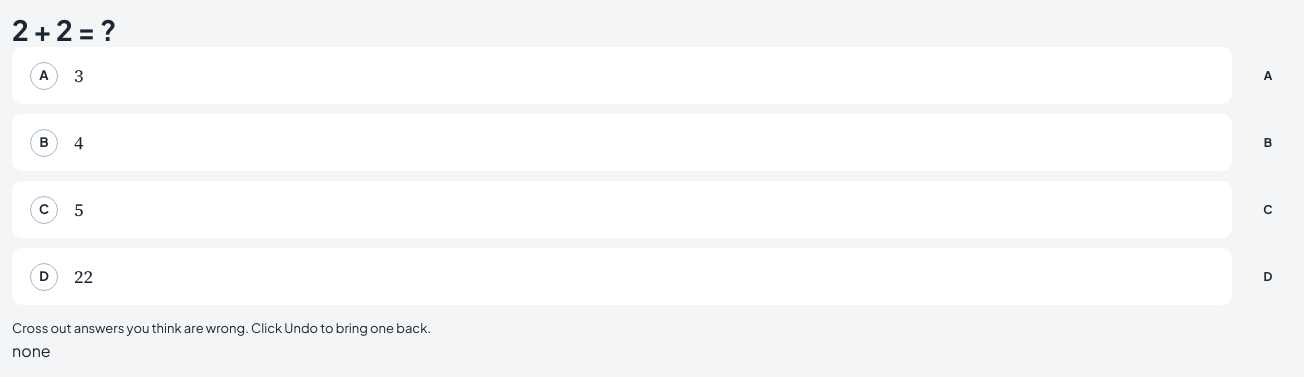
Test: cross out on multiple choice › crosses out and brings back an option without choosing it
Click the button named "Cross out A": (1268, 76) [1244, 58, 1292, 94]
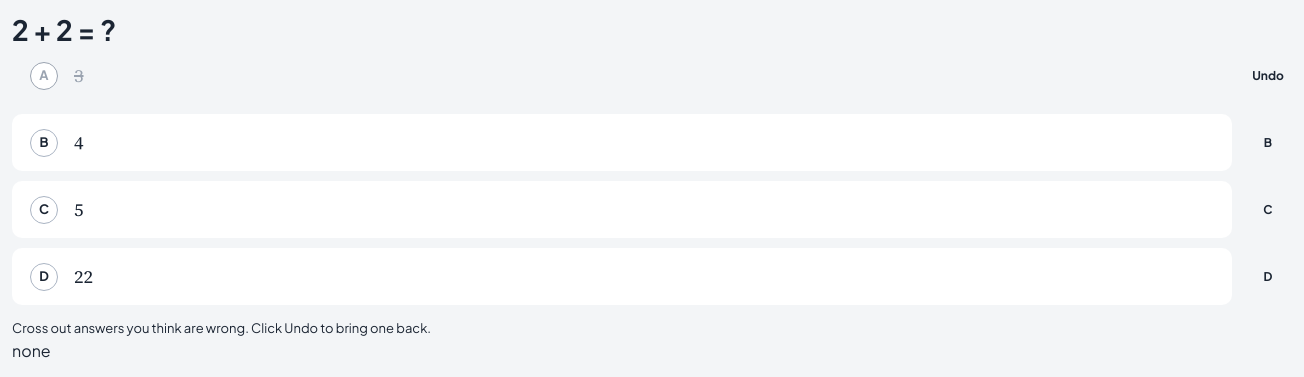
Expected: the text with test id "value" reads "none", [12, 340, 51, 360]
Result: the button with aria-label "Undo cross out A" is pressed
Click the button with aria-label "Undo cross out A": (1268, 76) [1244, 58, 1292, 94]
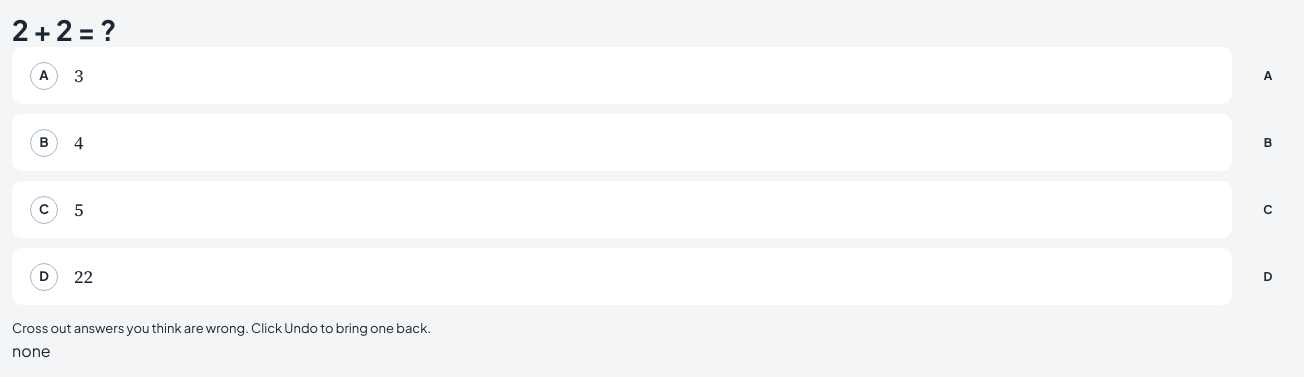
Result: the button named "Cross out A" is not pressed at [1244, 58, 1292, 94]
